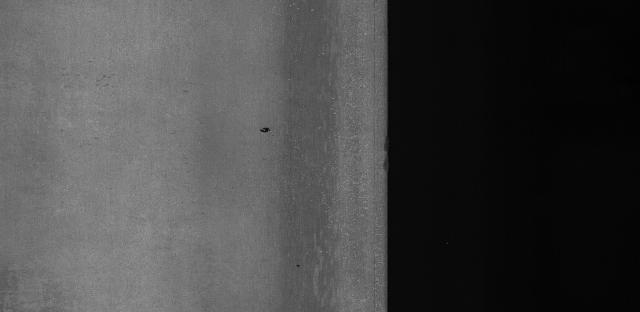inclusion: (251, 122, 276, 137)
